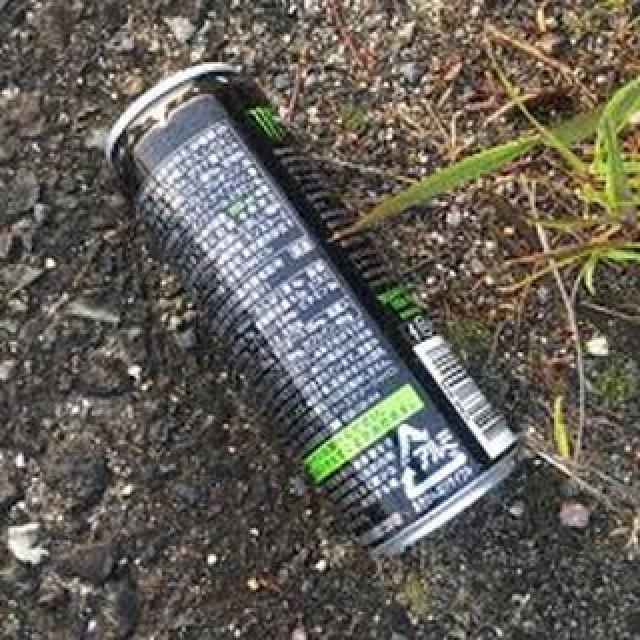can: (107, 64, 519, 555)
